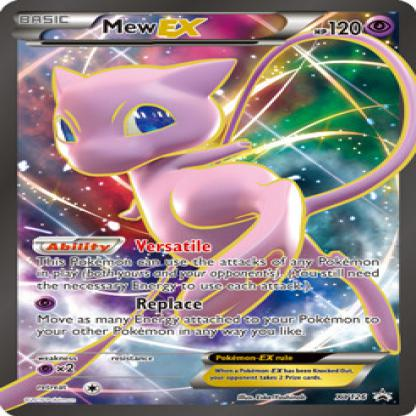Mew: (33, 53, 416, 261)
